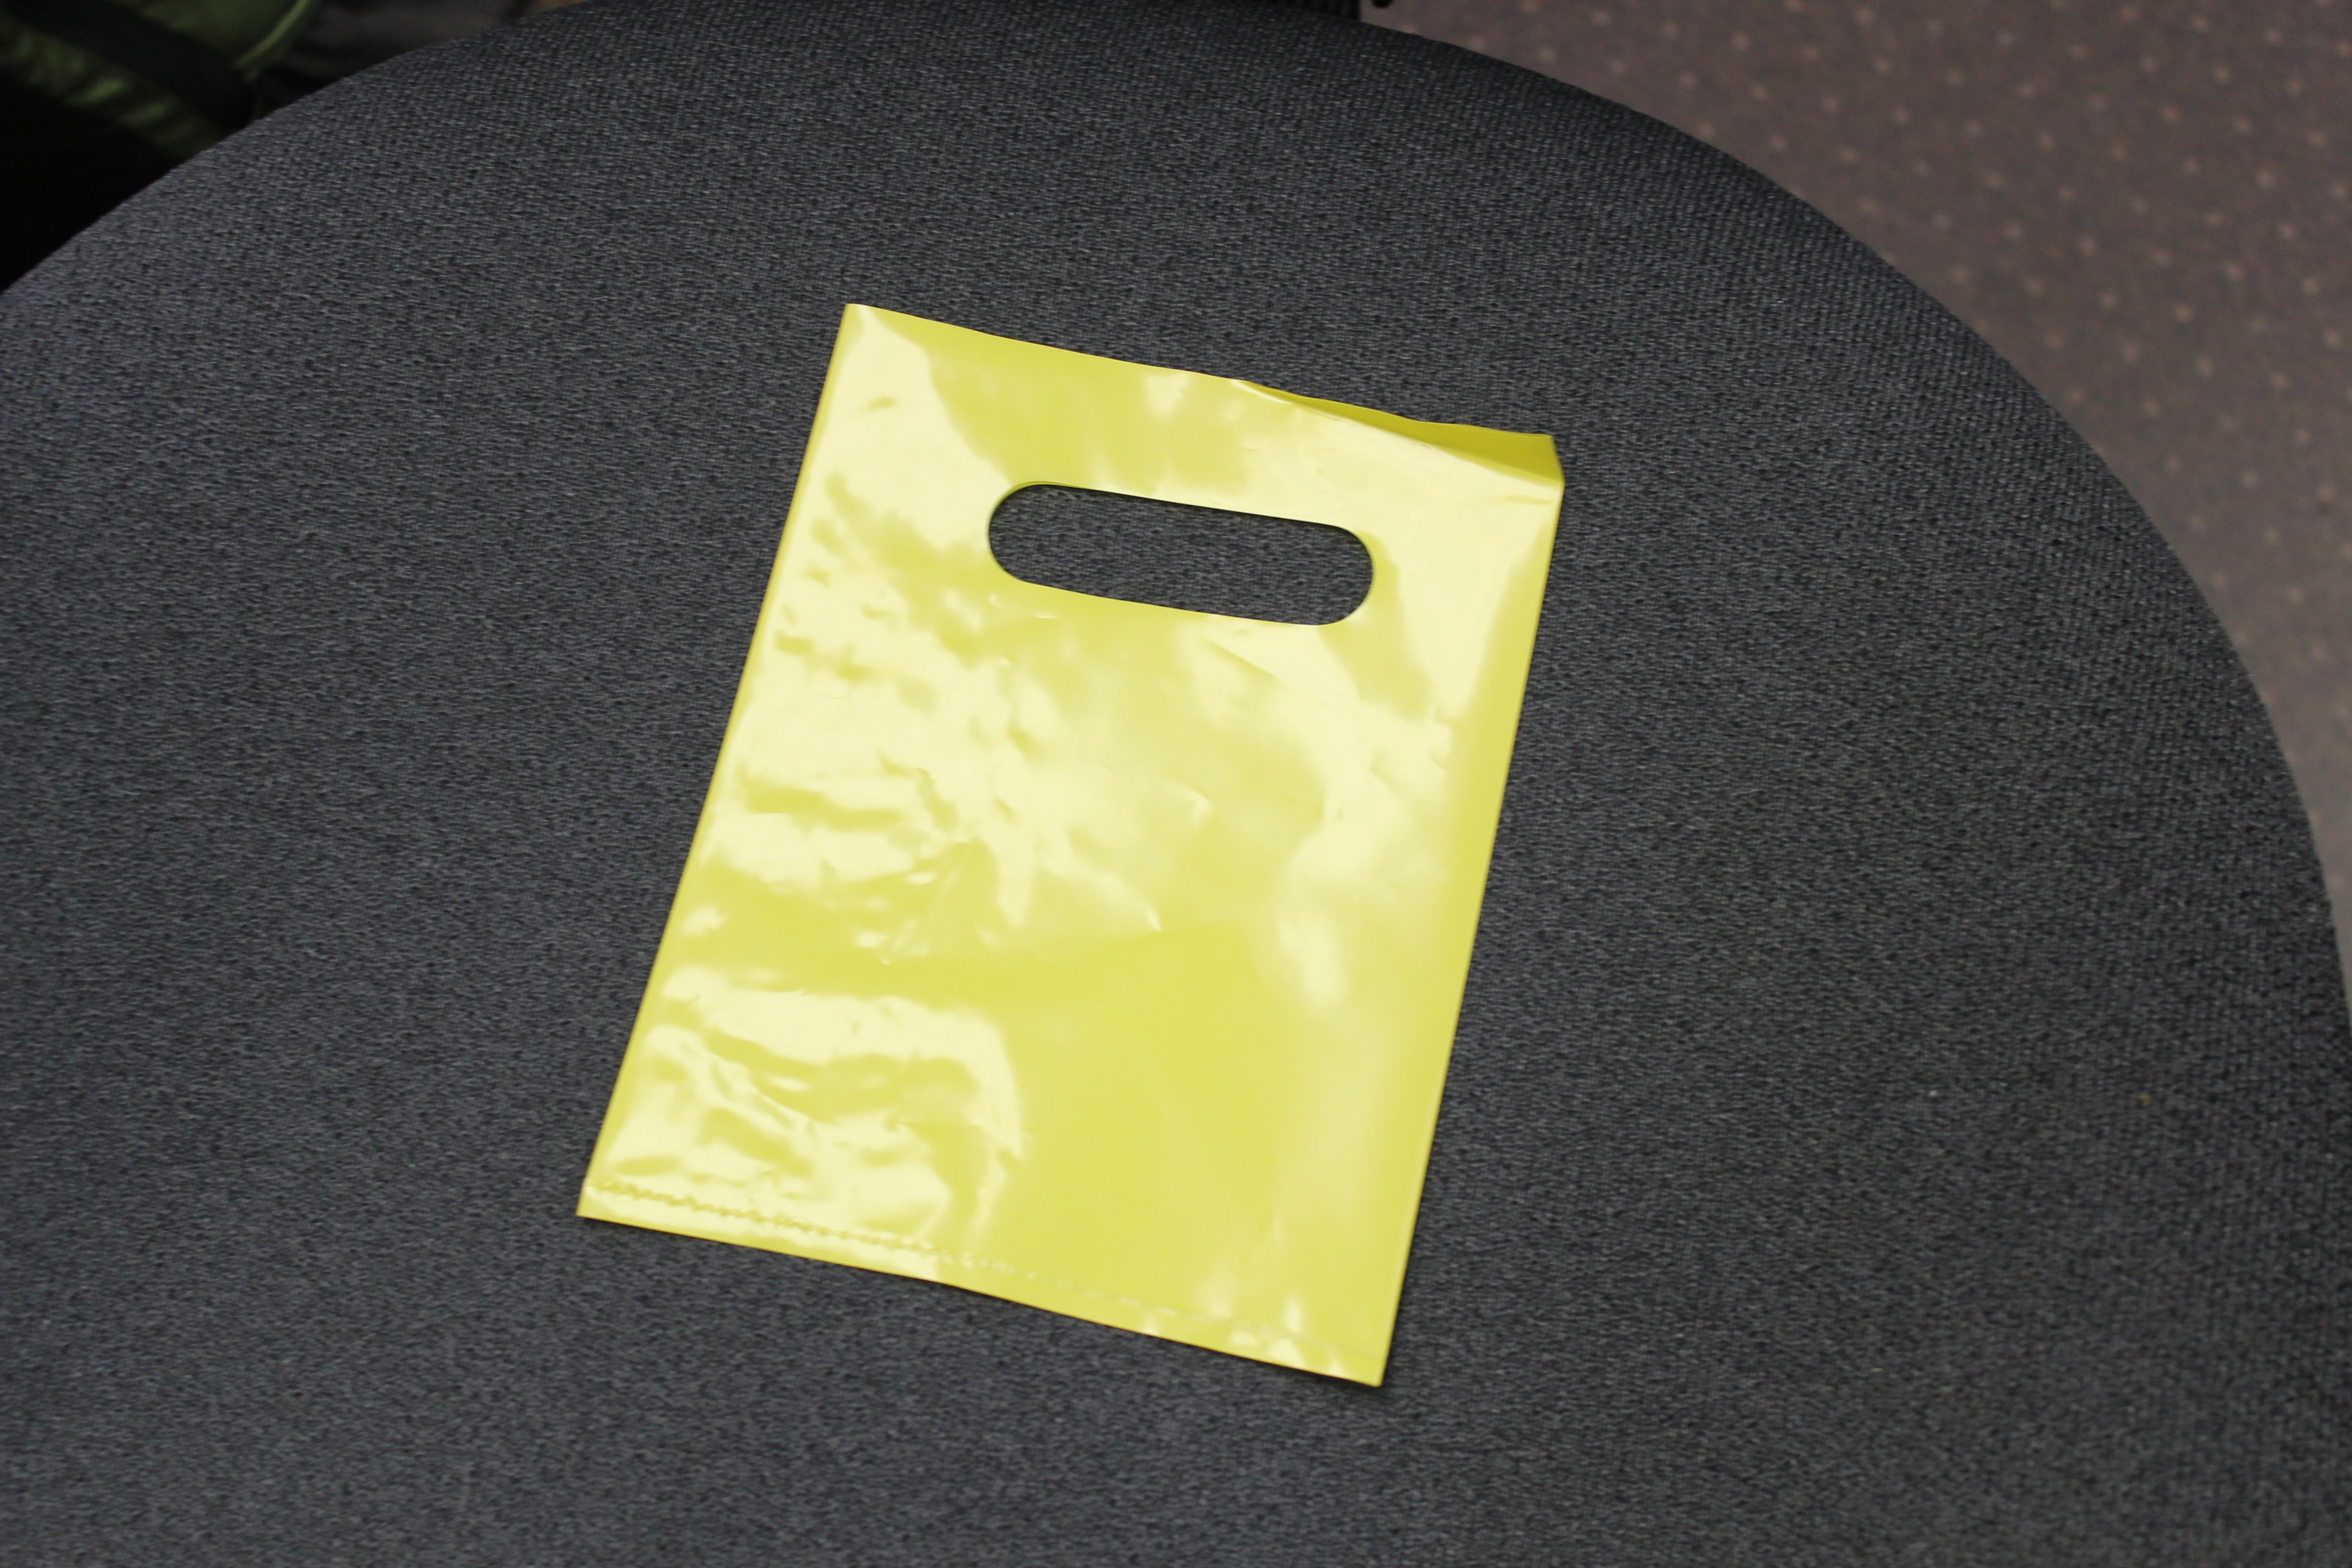yellowBag: (535, 259, 1594, 1449)
